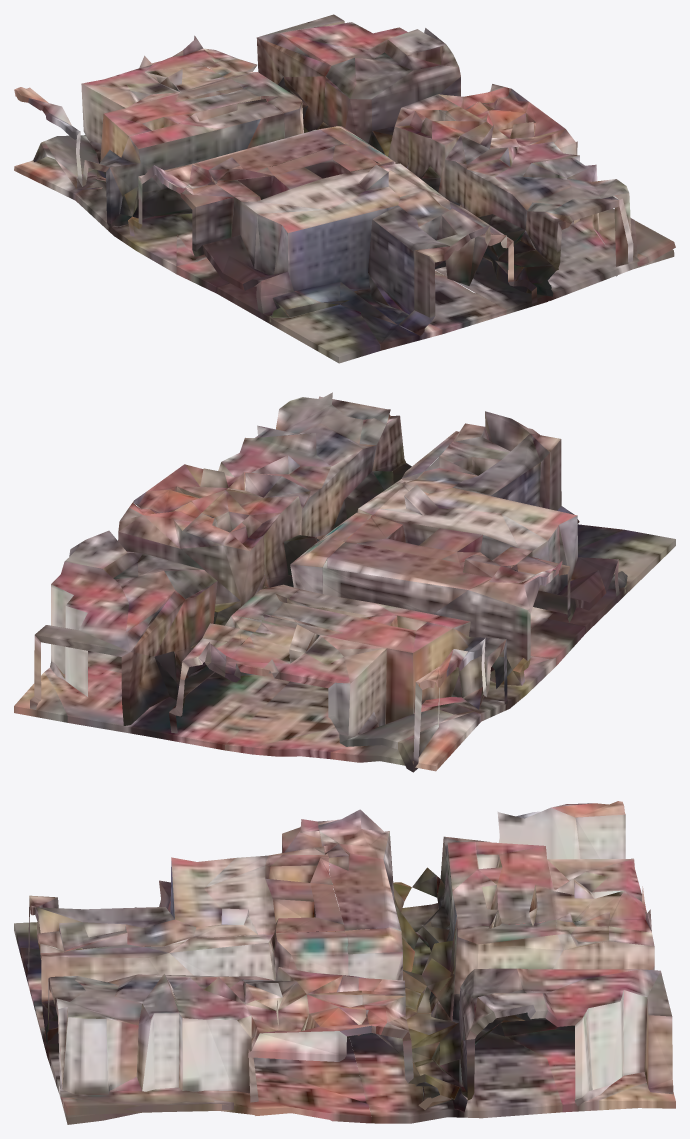
3 views of the same model, one above another, from view 1: azimuth 30°, elevation 25°; view 2: azimuth 150°, elevation 25°; view 3: azimuth 270°, elevation 25° (orthographic). The views are drawn at different scales.
Visible parts, largest first — view 1: Mesh_0; view 2: Mesh_0; view 3: Mesh_0.
Boxes of the visible parts, x1,y1,x2,y2 form: Mesh_0: [14, 14, 675, 363]; Mesh_0: [14, 392, 675, 772]; Mesh_0: [14, 801, 675, 1124].
Bounding box in the file's own units: 134 × 32.37 × 165.
1 material, 1 textured.
